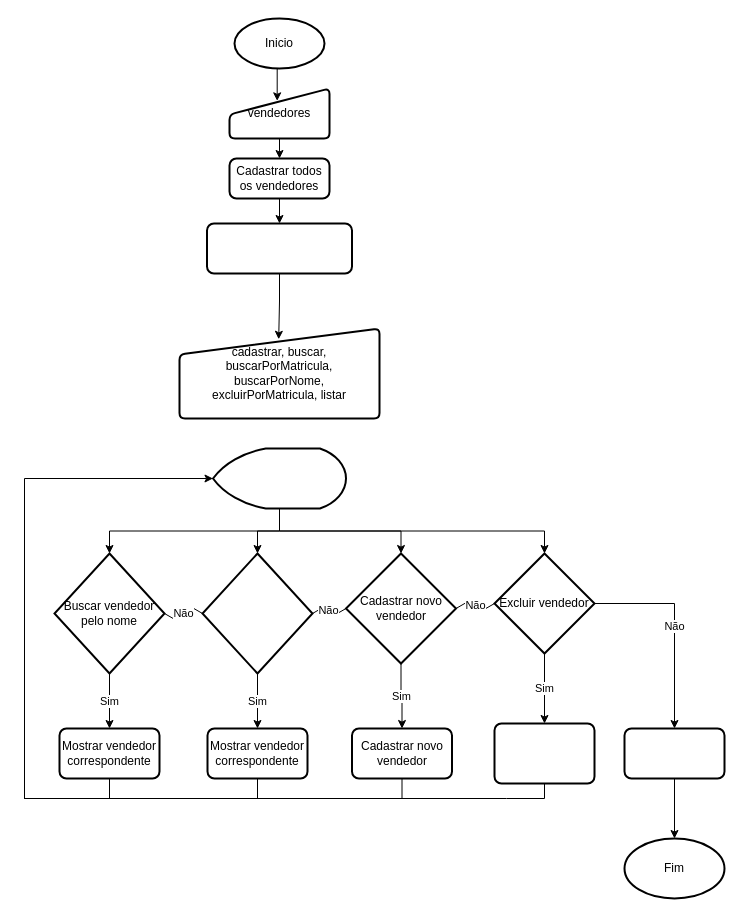
This 743x916 diagram has some shape labels left out. The centre of each missing label's shape, as x and y in pixels:
"Buscar vendedor pela matricula" belongs at (x=257, y=613).
"Escolha uma das opções" belongs at (x=279, y=478).
"Exclui vendedor correspondente" belongs at (x=544, y=753).
"Exportar para vendedores.service.js" belongs at (x=279, y=248).
"Listar vendedores" belongs at (x=674, y=753).
